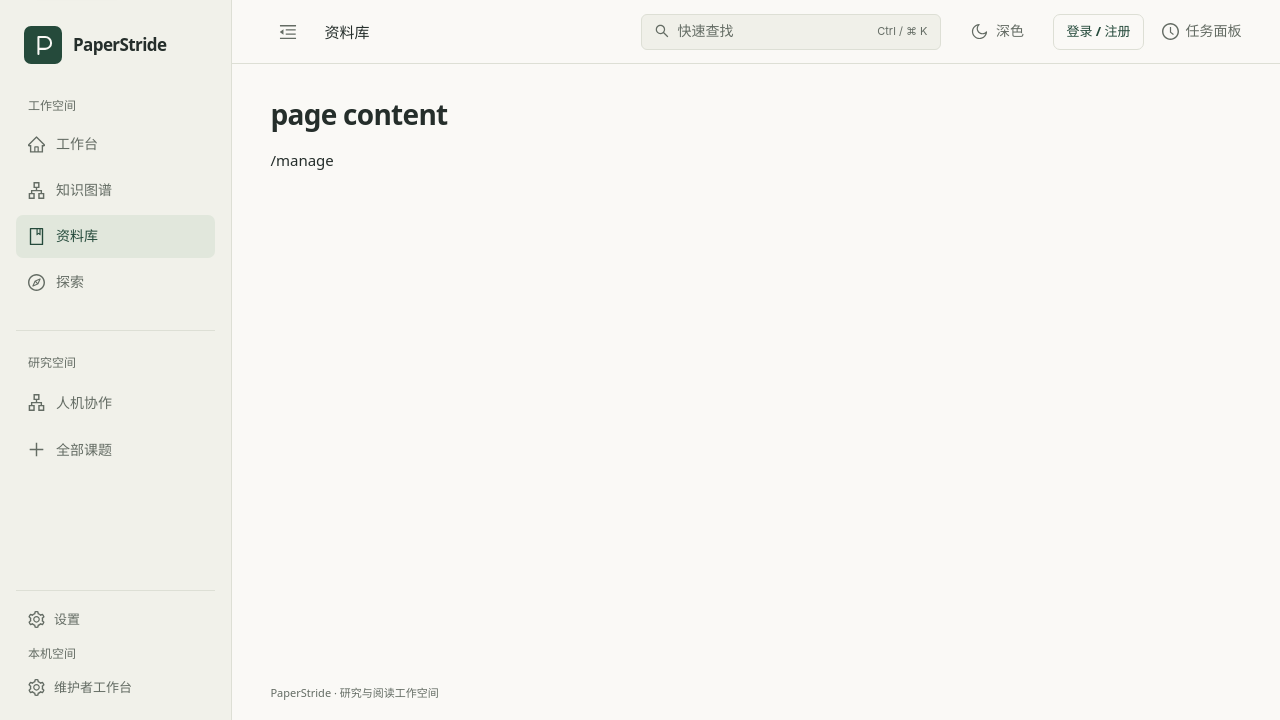
Test: sidebar can collapse and reopen while retaining navigation and the saved preference
Click the button named "收起功能栏".
click(288, 32)  # box [270,12,306,52]
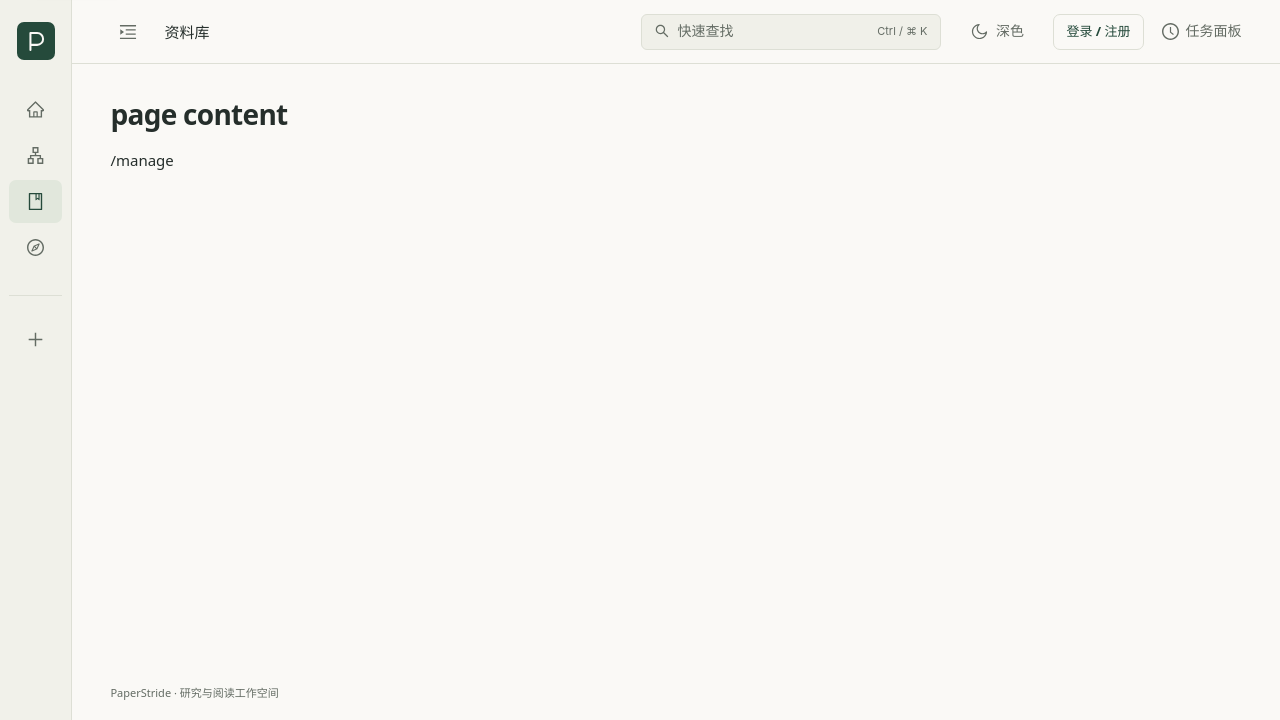
Expected: the link named "全部课题" is shown, [27,331,44,348]
Click the button named "展开功能栏".
click(128, 32)  # box [110,12,146,52]
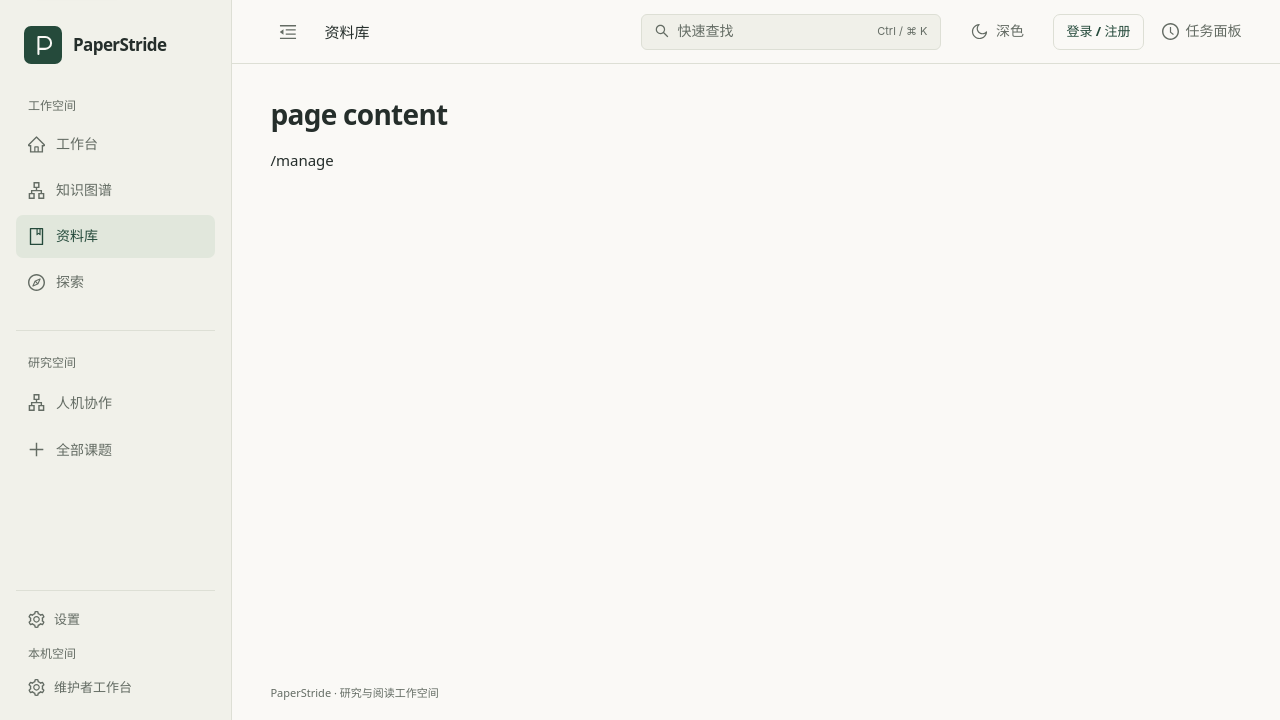
Result: the button named "收起功能栏" is expanded at [270,12,306,52]
